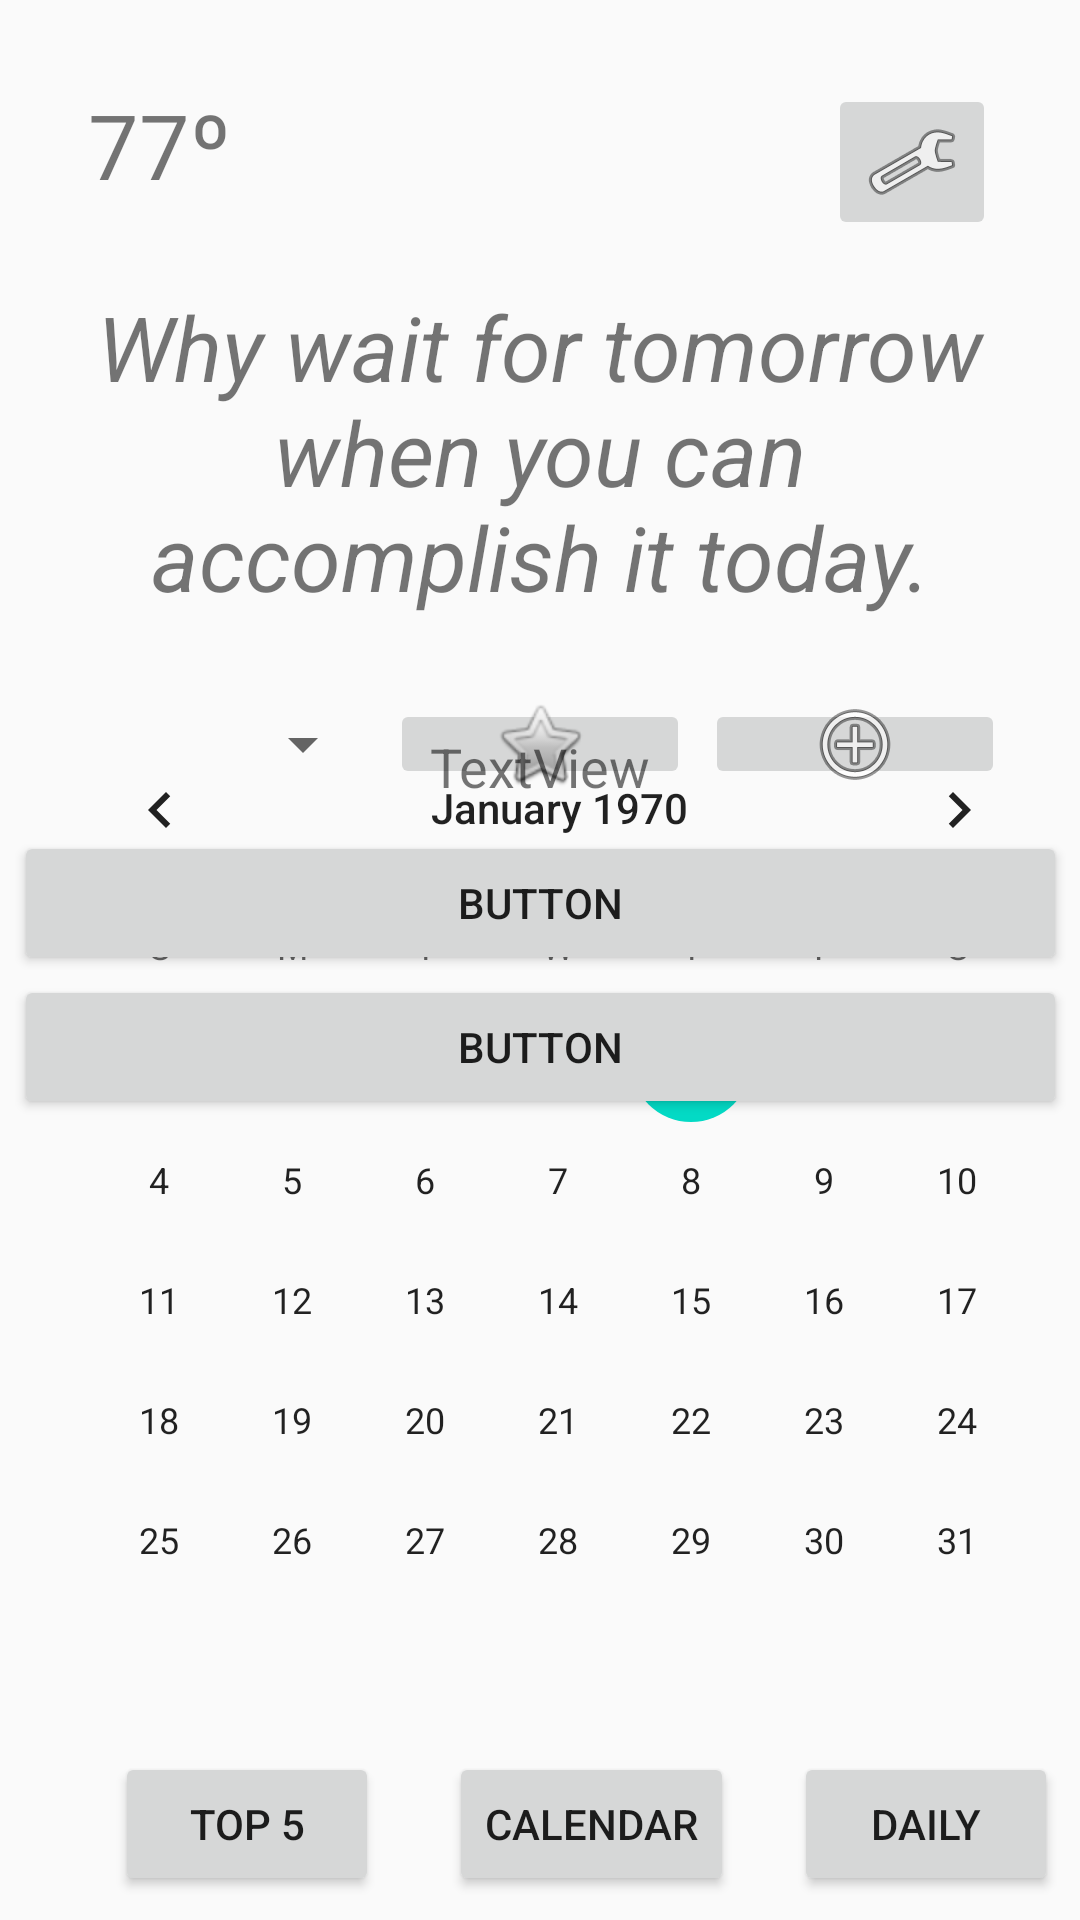

Where to tap for icons on this 1080px×1920px app screen, as (x,y):
add: (855,744)
preferences: (912,162)
